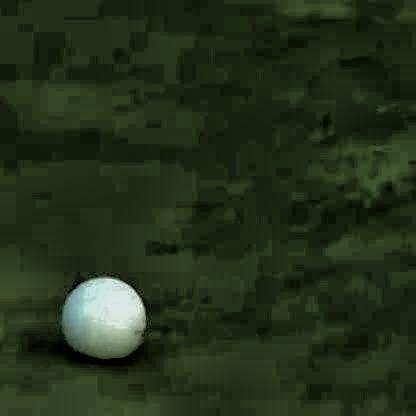golfball: (55, 274, 143, 357)
